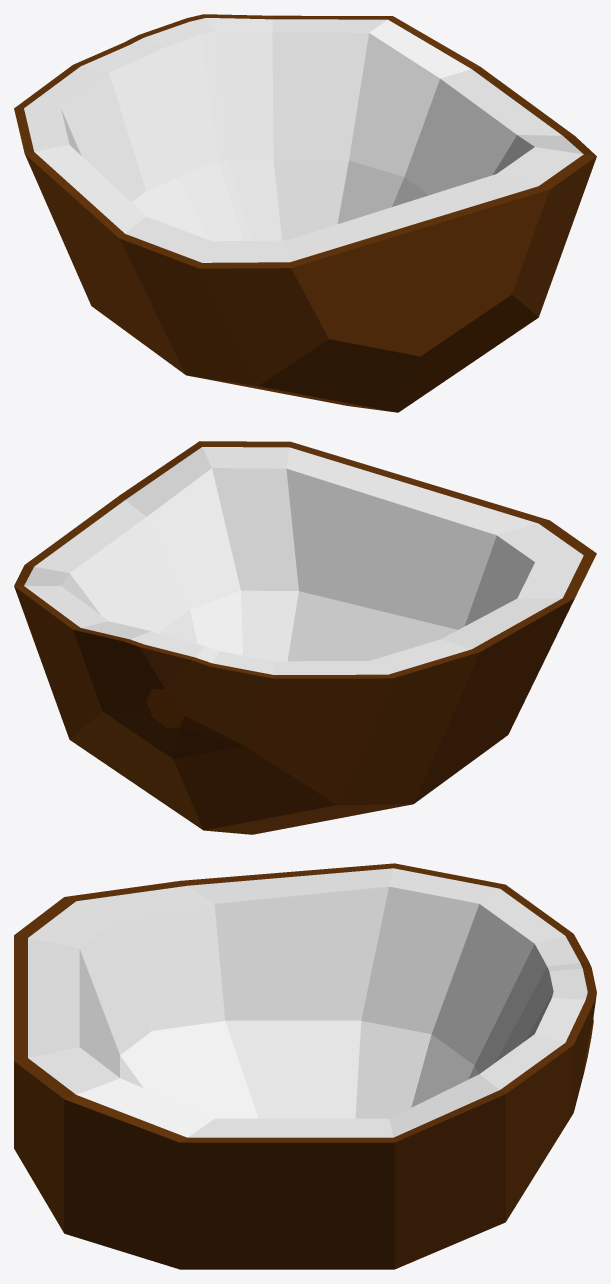
The model's file is coconut02.obj.
The picture shows the model from 3 angles, top to bottom: view 1: azimuth 30°, elevation 25°; view 2: azimuth 150°, elevation 25°; view 3: azimuth 270°, elevation 25°; orthographic projection. The views are drawn at different scales.
Visible parts, largest first — view 1: Cylinder; view 2: Cylinder; view 3: Cylinder.
Part boxes in pixels (left/top/right/bottom): Cylinder: left=14, top=14, right=596, bottom=412; Cylinder: left=14, top=441, right=596, bottom=834; Cylinder: left=14, top=863, right=596, bottom=1269.
Size of the model in its own units: 0.1384 by 0.072 by 0.1353.
Materials: 1 (1 with a texture image).
